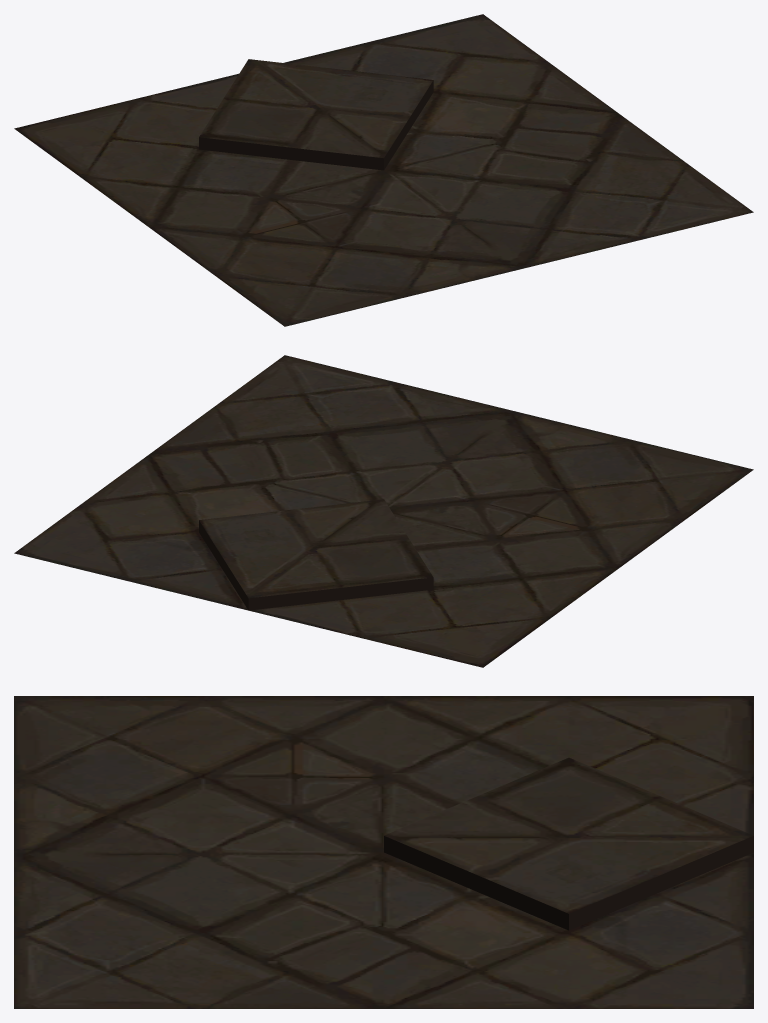
File: fortress_floor_blank_05.fbx
3 renders of one model, top to bottom at view 1: azimuth 30°, elevation 25°; view 2: azimuth 150°, elevation 25°; view 3: azimuth 270°, elevation 25°, orthographic. The views are drawn at different scales.
Parts seen in each view (by area): view 1: fortress_tileset/Floor_01_mat_shadow; view 2: fortress_tileset/Floor_01_mat_shadow; view 3: fortress_tileset/Floor_01_mat_shadow.
Boxes of the visible parts, x1,y1,x2,y2 form: fortress_tileset/Floor_01_mat_shadow: [14, 14, 753, 326]; fortress_tileset/Floor_01_mat_shadow: [14, 355, 753, 667]; fortress_tileset/Floor_01_mat_shadow: [14, 696, 753, 1008].
Size of the model in its own units: 4 by 0.1 by 4.
